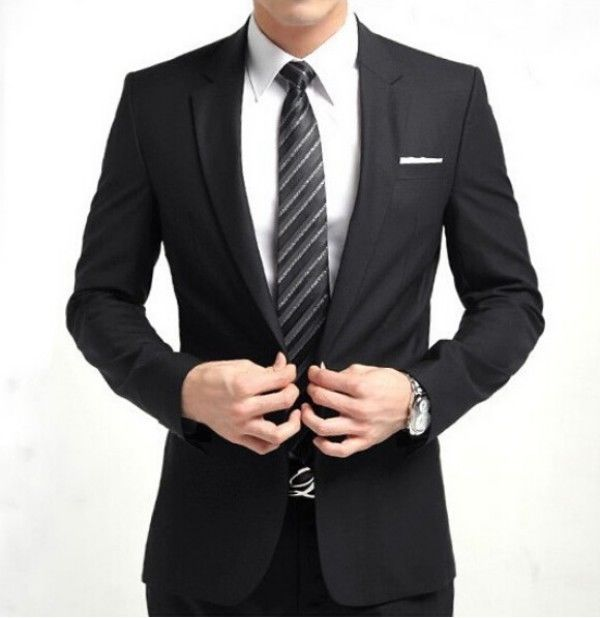F_M_suit jacket: (60, 33, 538, 584)
F_pocket square: (397, 146, 447, 172)
F_tie: (273, 56, 331, 362)
